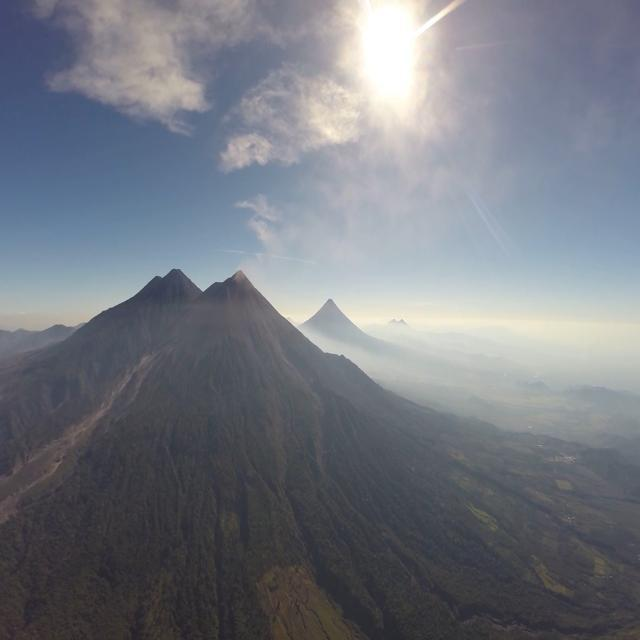Summit: (224, 266, 256, 287)
